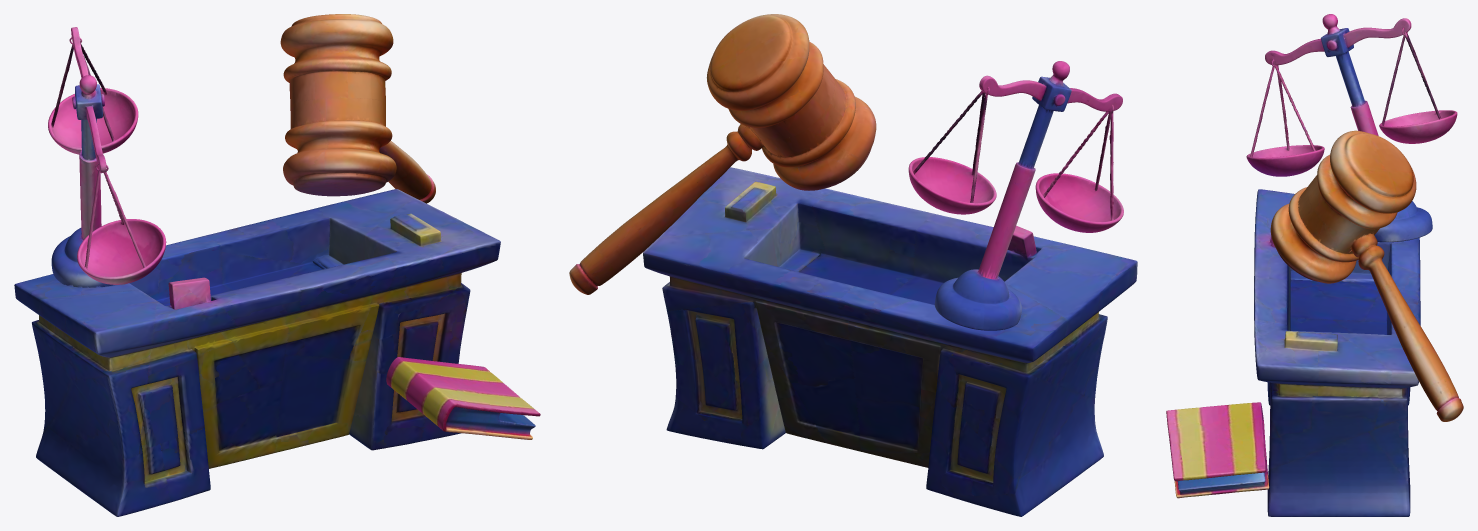
File: home-court.glb
3 renders of one model, left to right at view 1: azimuth 30°, elevation 25°; view 2: azimuth 150°, elevation 25°; view 3: azimuth 270°, elevation 25°, orthographic. The views are drawn at different scales.
Parts seen in each view (by area): view 1: tripo_part_0, tripo_part_1, tripo_part_2, tripo_part_3; view 2: tripo_part_0, tripo_part_1, tripo_part_2; view 3: tripo_part_0, tripo_part_1, tripo_part_2, tripo_part_3.
Part boxes in pixels (x1,y1,x2,y2): tripo_part_0: [14, 189, 500, 516]; tripo_part_1: [280, 14, 435, 203]; tripo_part_2: [48, 27, 166, 287]; tripo_part_3: [386, 357, 540, 439]; tripo_part_0: [643, 167, 1137, 516]; tripo_part_1: [569, 14, 876, 294]; tripo_part_2: [908, 61, 1123, 330]; tripo_part_0: [1254, 189, 1420, 516]; tripo_part_1: [1270, 130, 1463, 421]; tripo_part_2: [1246, 14, 1457, 242]; tripo_part_3: [1166, 402, 1269, 498].
Bounding box in the file's own units: 0.9802 × 0.8833 × 0.6498.
Materials: 4 (4 with a texture image).
